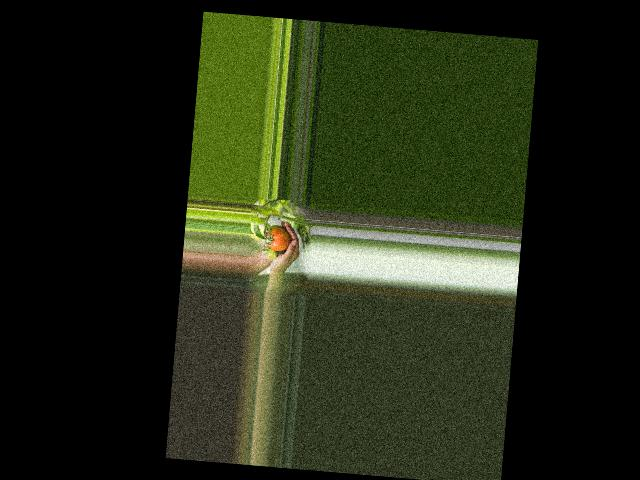tomato: (266, 227, 291, 252)
